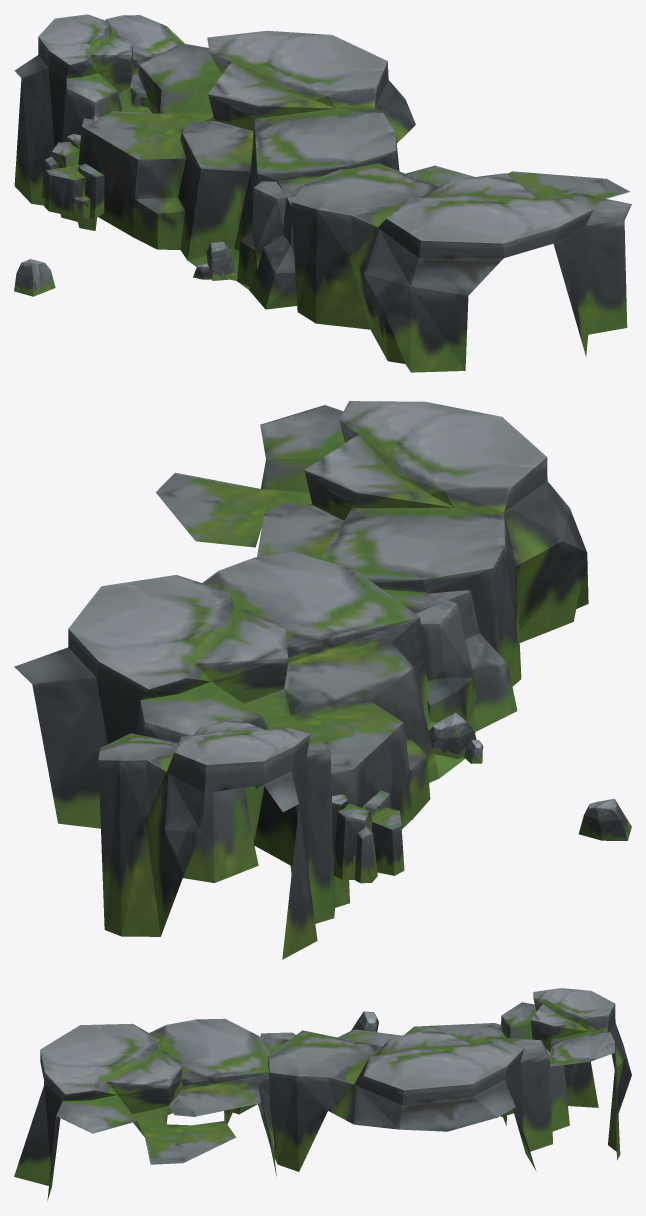
The model's file is Area13_5_y.FBX.
3 views of the same model, one above another, from view 1: azimuth 30°, elevation 25°; view 2: azimuth 150°, elevation 25°; view 3: azimuth 270°, elevation 25° (orthographic). The views are drawn at different scales.
Visible parts, largest first — view 1: Area13_5_y; view 2: Area13_5_y; view 3: Area13_5_y.
Boxes of the visible parts, box(x1,y1,x2,y2) form: Area13_5_y: box(14, 14, 631, 372); Area13_5_y: box(14, 401, 631, 959); Area13_5_y: box(14, 988, 631, 1200).
Bounding box in the file's own units: 4483 × 1306 × 5849.
Materials: 1 (1 with a texture image).
